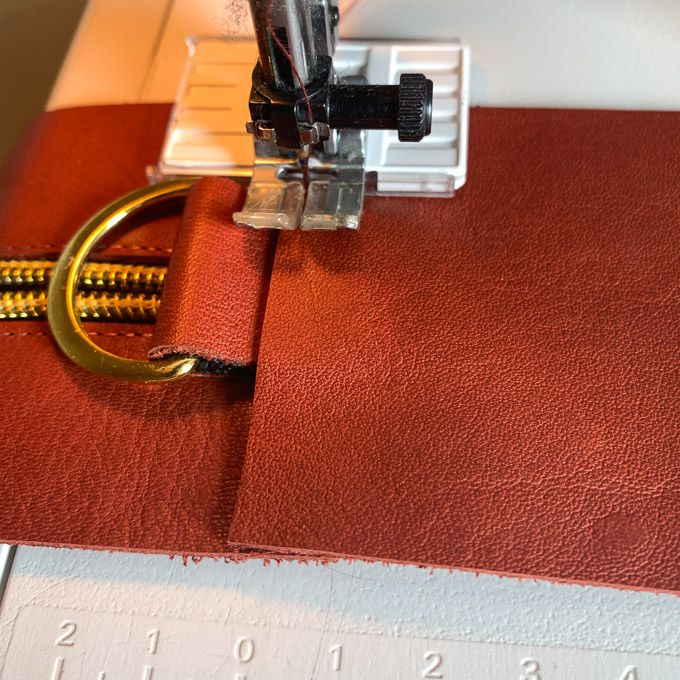cuero: (2, 98, 680, 596)
